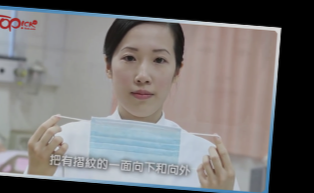without_mask: (108, 42, 175, 116)
